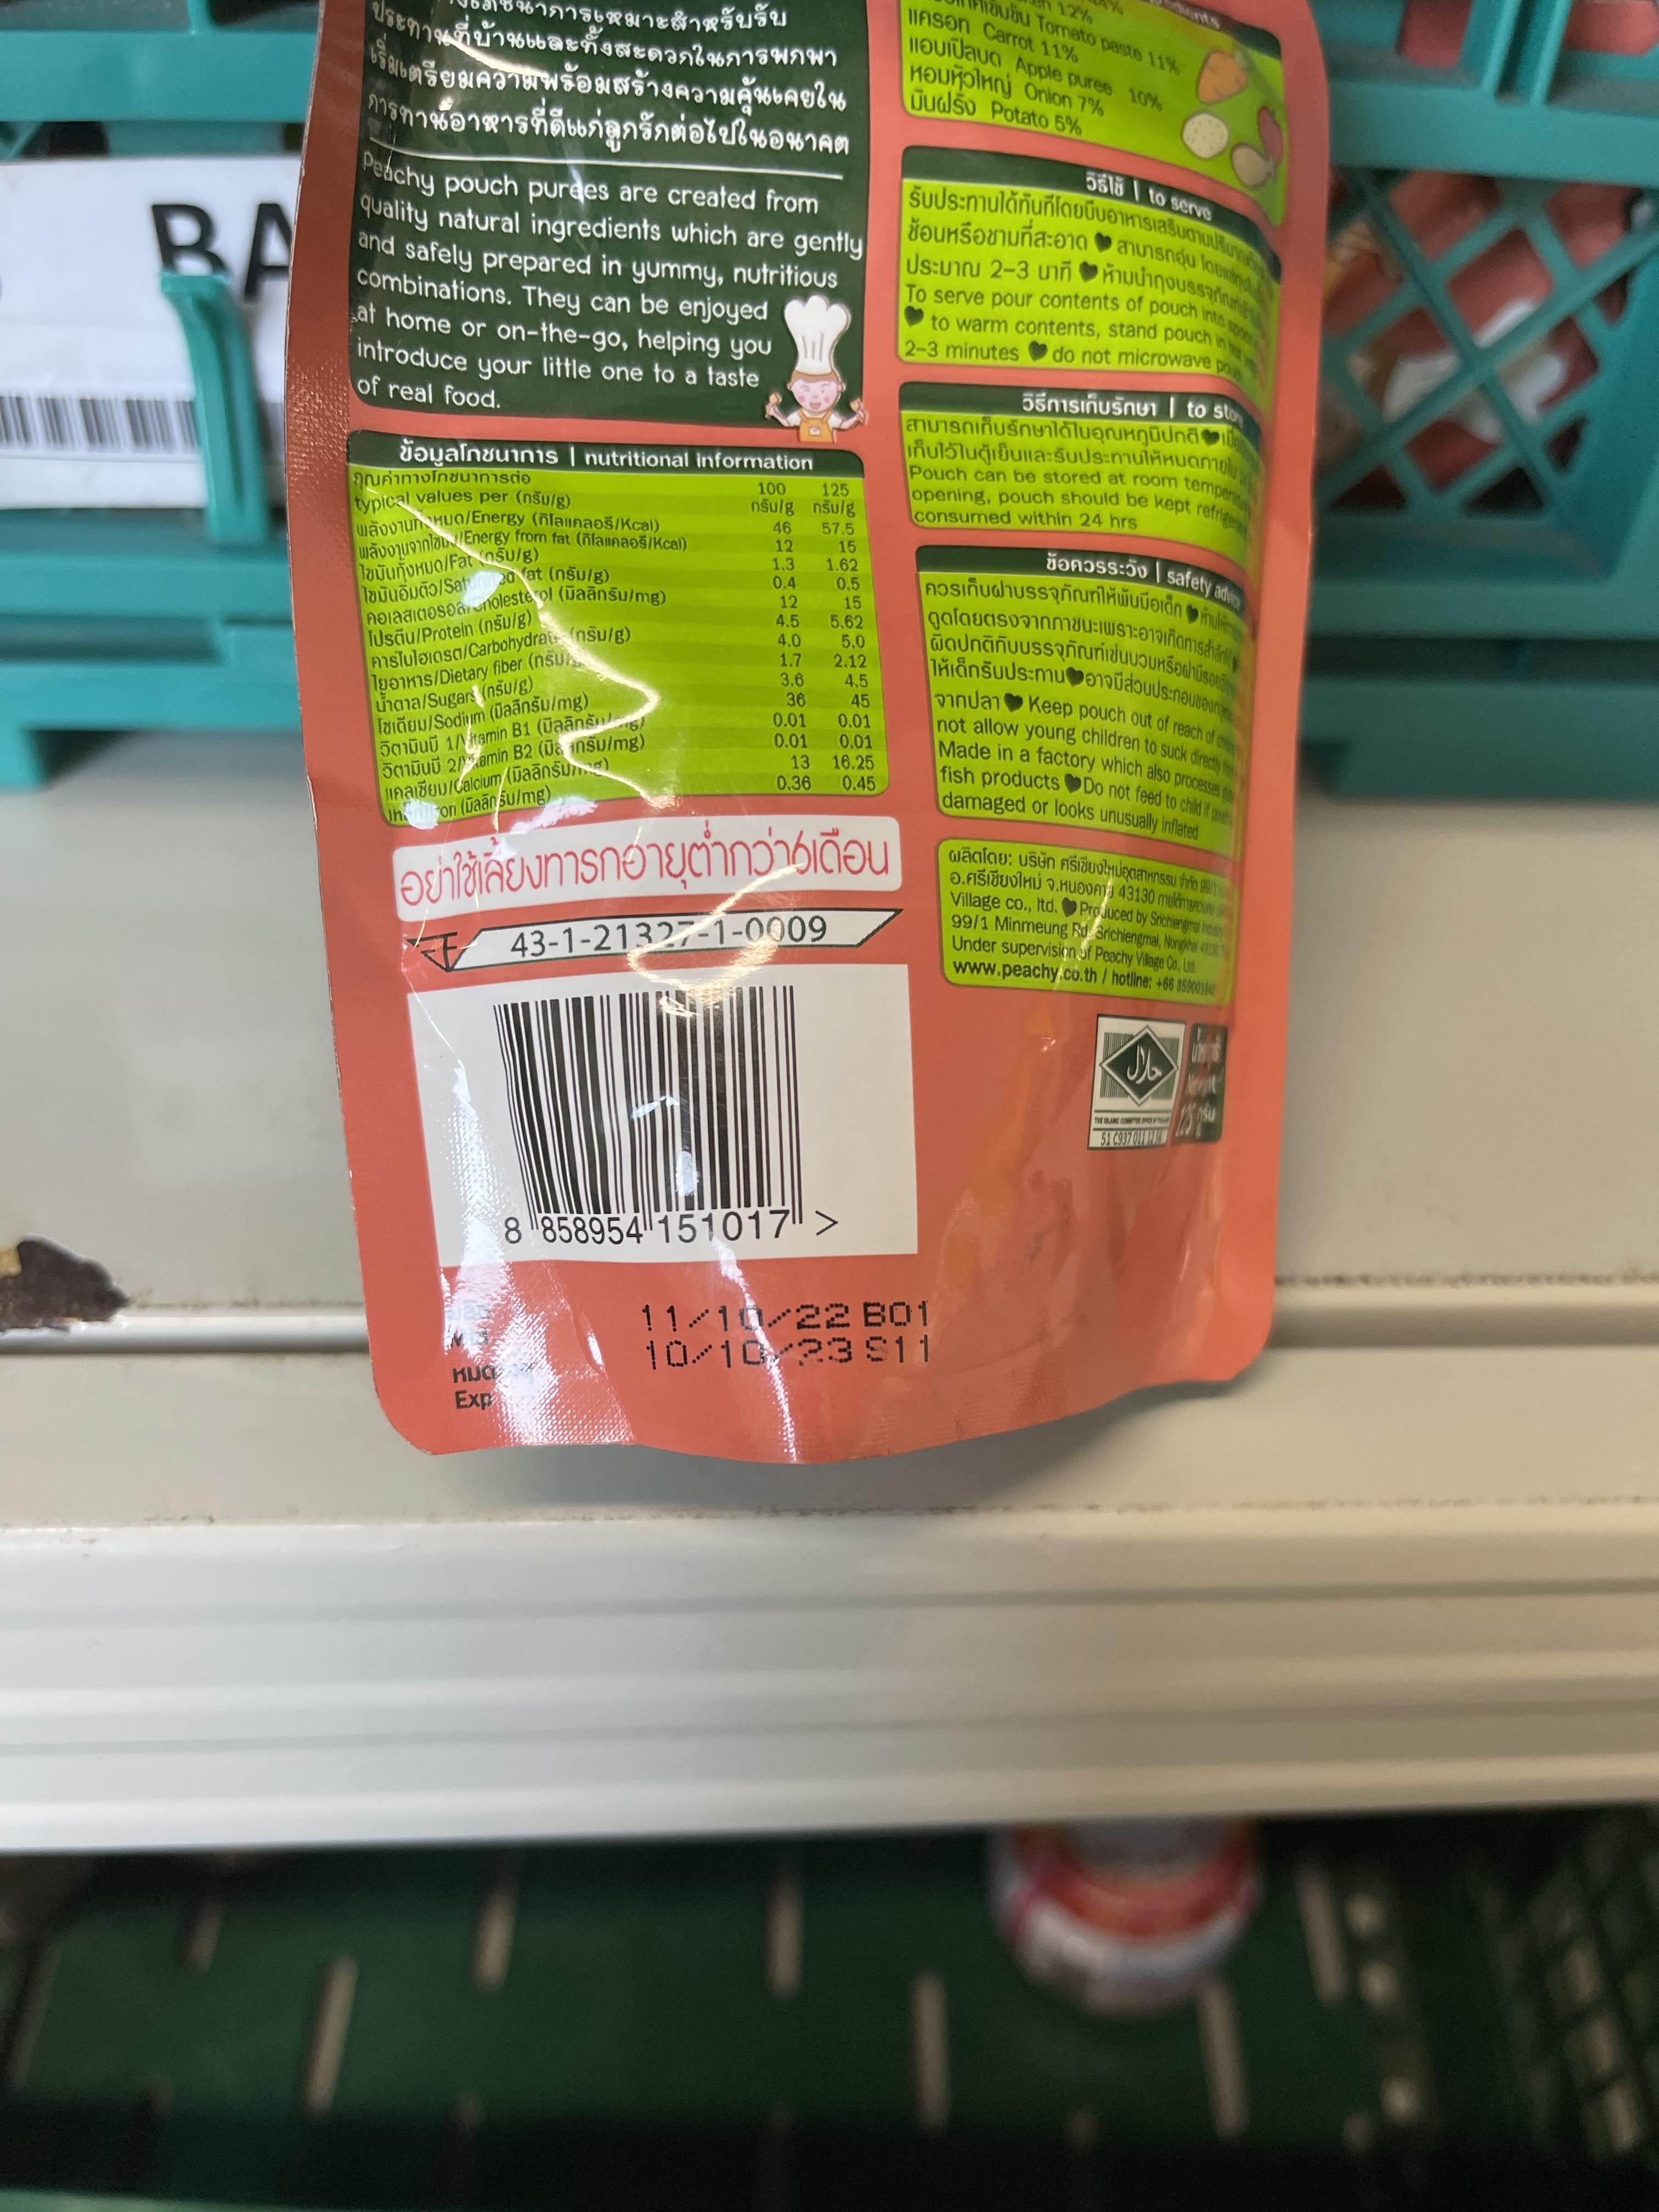object_name: (357, 10, 1248, 1366)
